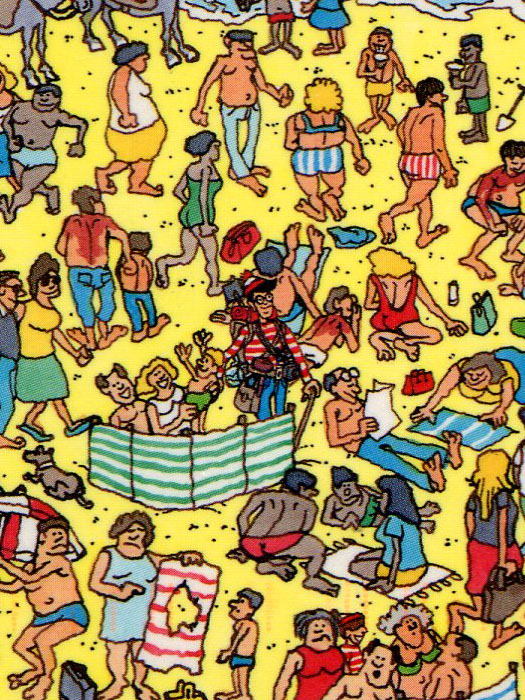waldo: (242, 269, 278, 319)
